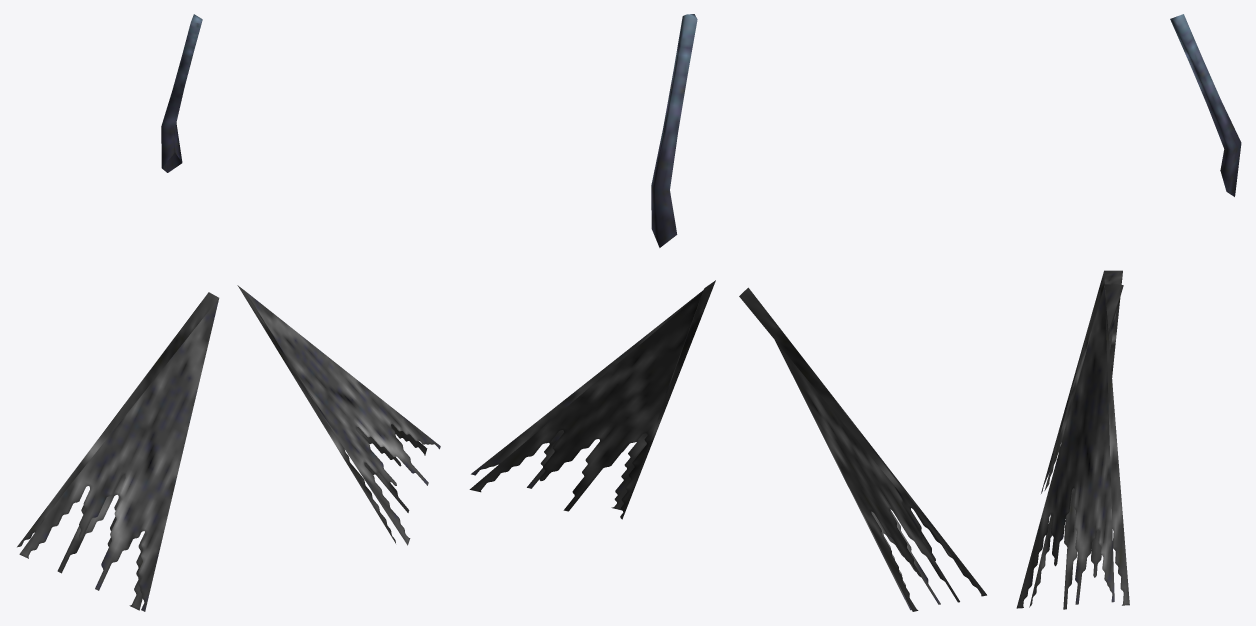
File: back.obj
3 renders of one model, left to right at view 1: azimuth 30°, elevation 25°; view 2: azimuth 150°, elevation 25°; view 3: azimuth 270°, elevation 25°, orthographic. The views are drawn at different scales.
Parts seen in each view (by area): view 1: rdmobj00, rdmobj01; view 2: rdmobj01, rdmobj00; view 3: rdmobj00, rdmobj01.
Boxes of the visible parts, left/top/right/bottom form: rdmobj00: left=19, top=14, right=440, bottom=611; rdmobj01: left=17, top=285, right=427, bottom=610; rdmobj01: left=469, top=280, right=982, bottom=611; rdmobj00: left=471, top=14, right=986, bottom=610; rdmobj00: left=1016, top=14, right=1241, bottom=608; rdmobj01: left=1029, top=272, right=1129, bottom=609.
Bounding box in the file's own units: 16776 × 19427 × 7327.
2 materials, 2 textured.
